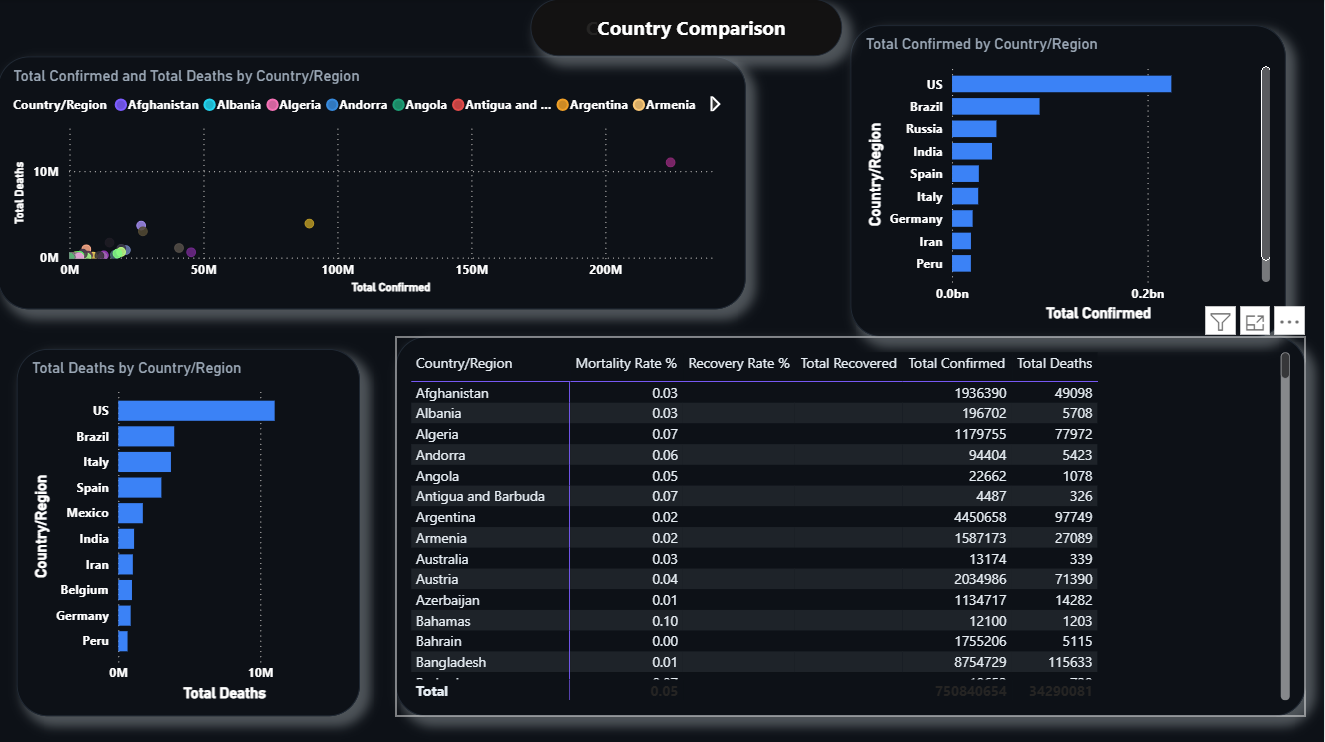

This screenshot's page, from the dashboard's own definition file:
{"tool":"powerbi","page":{"name":"Page 2","canvas":[1280,720],"ordinal":1},"visuals":[{"type":"clusteredBarChart","fields":{"Category":["covid_19_clean_complete.Country/Region"],"Y":["covid_19_clean_complete.Total Confirmed"]},"box":[822.8,25.3,419.8,300.4],"z":0},{"type":"clusteredBarChart","fields":{"Category":["covid_19_clean_complete.Country/Region"],"Y":["covid_19_clean_complete.Total Deaths"]},"box":[18.3,337.5,331.4,354.6],"z":1000},{"type":"scatterChart","fields":{"X":["covid_19_clean_complete.Total Confirmed"],"Y":["covid_19_clean_complete.Total Deaths"],"Series":["covid_19_clean_complete.Country/Region"]},"box":[0,55.5,721.5,243.7],"z":2000},{"type":"pivotTable","fields":{"Rows":["covid_19_clean_complete.Country/Region"],"Values":["covid_19_clean_complete.Mortality Rate %","covid_19_clean_complete.Recovery Rate %","covid_19_clean_complete.Total Recovered","covid_19_clean_complete.Total Confirmed","covid_19_clean_complete.Total Deaths"]},"box":[383.6,325.7,878.3,366.8],"z":3000},{"type":"textbox","box":[513.9,0,300.4,55.5],"z":4000}]}

Visuals, with their boxes in screenshot pixels (x1, y1, x2, y2), scaled from the page's 1280x720 canvas onto the 1325x742 screenshot:
clusteredBarChart - covid_19_clean_complete.Country/Region x covid_19_clean_complete.Total Confirmed: 852 26 1286 336
clusteredBarChart - covid_19_clean_complete.Country/Region x covid_19_clean_complete.Total Deaths: 19 348 362 713
scatterChart - covid_19_clean_complete.Total Confirmed x covid_19_clean_complete.Total Deaths: 0 57 747 308
pivotTable - covid_19_clean_complete.Country/Region x covid_19_clean_complete.Mortality Rate %: 397 336 1306 714
textbox: 532 0 843 57
